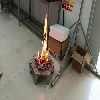fire: (36, 14, 50, 65)
